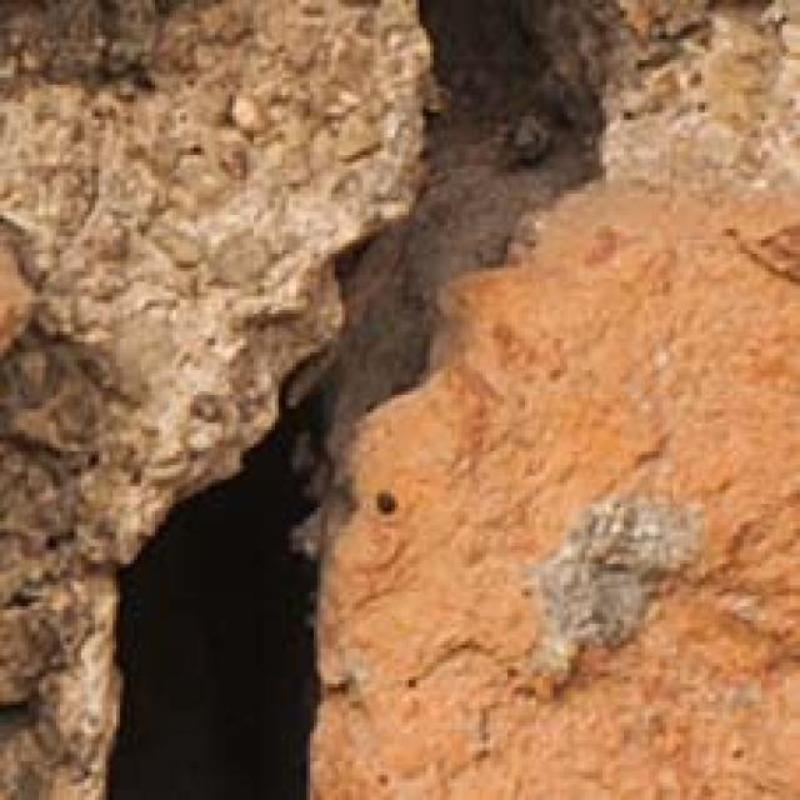pothole: (108, 0, 598, 799)
